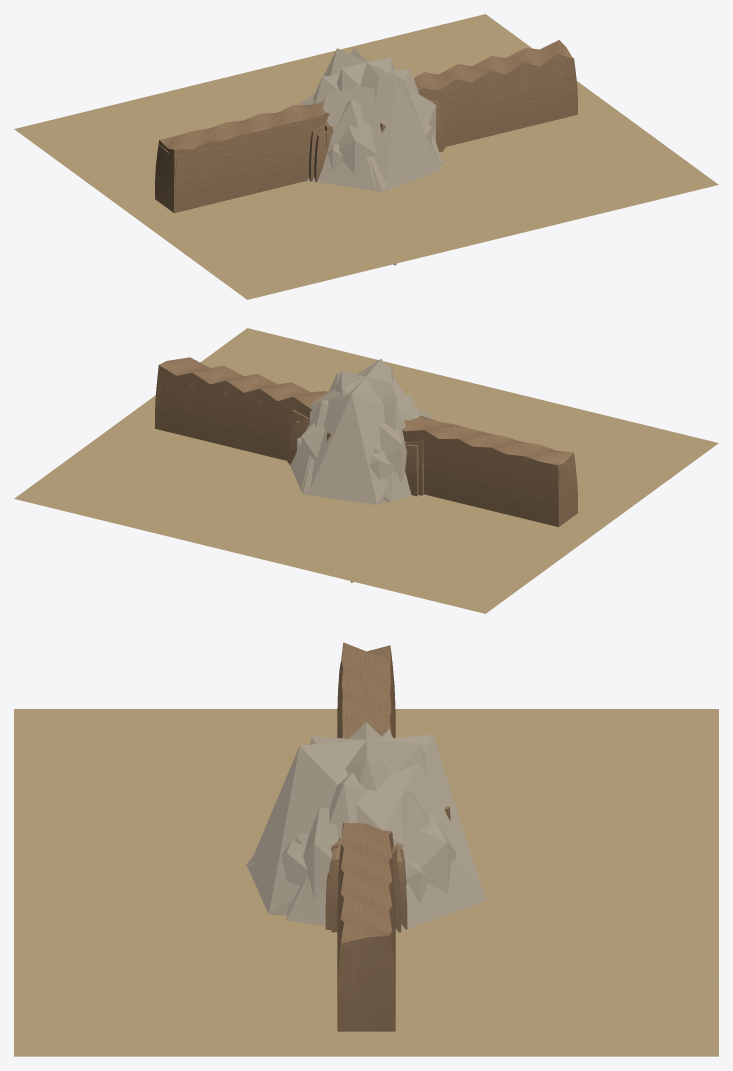
3 renders of one model, top to bottom at view 1: azimuth 30°, elevation 25°; view 2: azimuth 150°, elevation 25°; view 3: azimuth 270°, elevation 25°, orthographic. The views are drawn at different scales.
Parts seen in each view (by area): view 1: detail-0000, body-010, distant / rock (×8), body-011, body-000, body-009; view 2: detail-0000, body-010, distant / rock (×7), body-011, body-000, body-009; view 3: detail-0000, distant / rock (×8), body-010, body-011, body-000, body-009.
Part boxes in pixels (x1=…): detail-0000: x1=14, y1=14, x2=718, y2=299; body-010: x1=155, y1=40, x2=577, y2=212; distant / rock (×8): x1=297, y1=48, x2=441, y2=265; body-011: x1=155, y1=58, x2=577, y2=212; body-000: x1=314, y1=105, x2=443, y2=182; body-009: x1=309, y1=99, x2=445, y2=181; detail-0000: x1=14, y1=328, x2=718, y2=613; body-010: x1=155, y1=357, x2=577, y2=527; distant / rock (×7): x1=289, y1=358, x2=431, y2=582; body-011: x1=155, y1=379, x2=572, y2=526; body-000: x1=289, y1=418, x2=418, y2=496; body-009: x1=287, y1=409, x2=423, y2=495; detail-0000: x1=14, y1=709, x2=718, y2=1056; distant / rock (×8): x1=246, y1=722, x2=486, y2=933; body-010: x1=337, y1=642, x2=395, y2=1031; body-011: x1=337, y1=662, x2=395, y2=1031; body-000: x1=325, y1=843, x2=407, y2=929; body-009: x1=331, y1=838, x2=401, y2=932.
Size of the model in its own units: 140 by 53.59 by 120.
18 materials, 13 textured.
